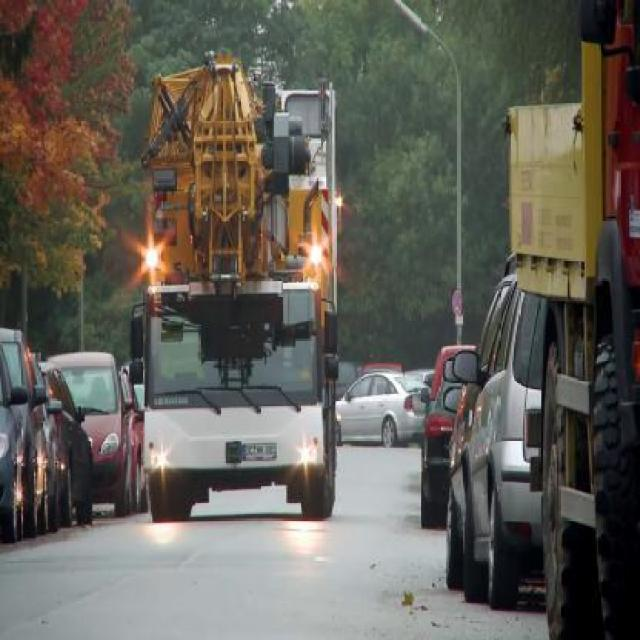Dump Truck: (504, 38, 638, 637)
Mobile Crane: (143, 46, 340, 520)
